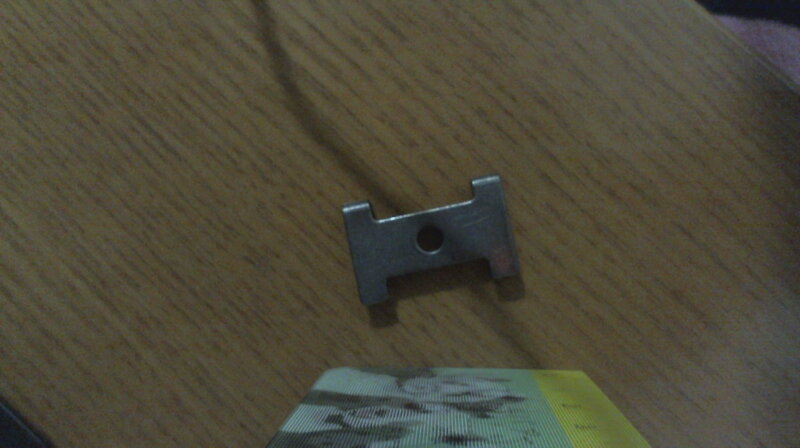O002: (336, 172, 520, 309)
